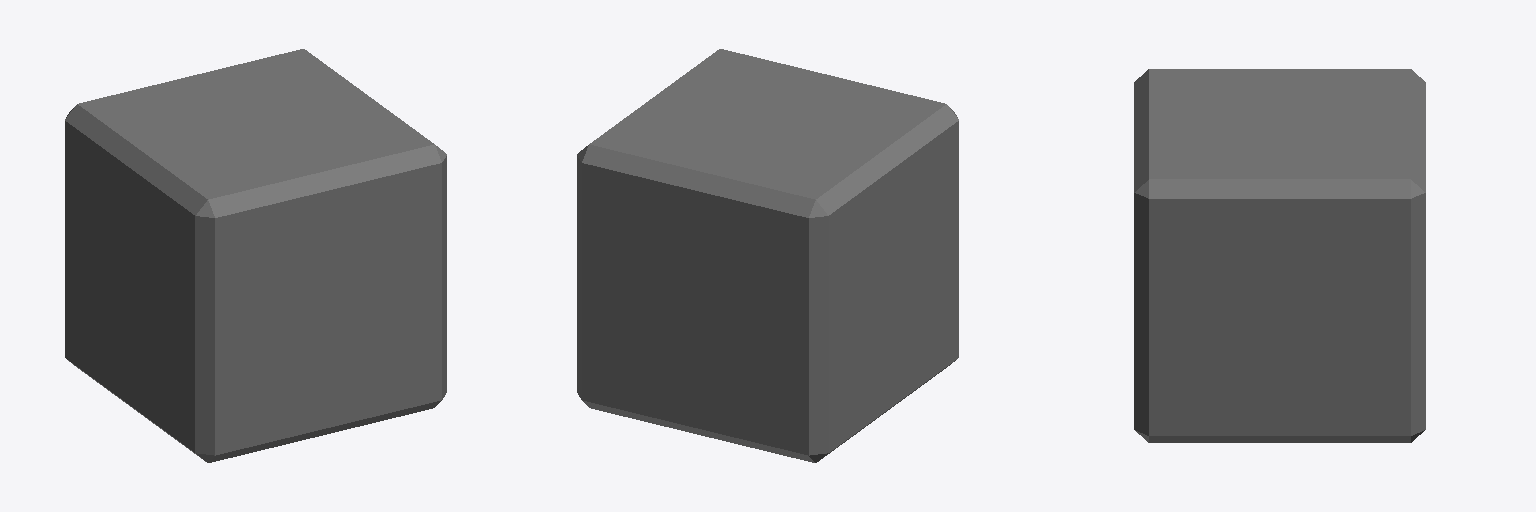
The model's file is Box_1_1x1x1_tnt.obj.
3 renders of one model, left to right at view 1: azimuth 30°, elevation 25°; view 2: azimuth 150°, elevation 25°; view 3: azimuth 270°, elevation 25°, orthographic.
Parts seen in each view (by area): view 1: default; view 2: default; view 3: default.
Part boxes in pixels (bbox=[...]): default: bbox=[65, 49, 446, 462]; default: bbox=[577, 49, 958, 462]; default: bbox=[1134, 69, 1425, 442].
Bounding box in the file's own units: 1 × 1 × 1.